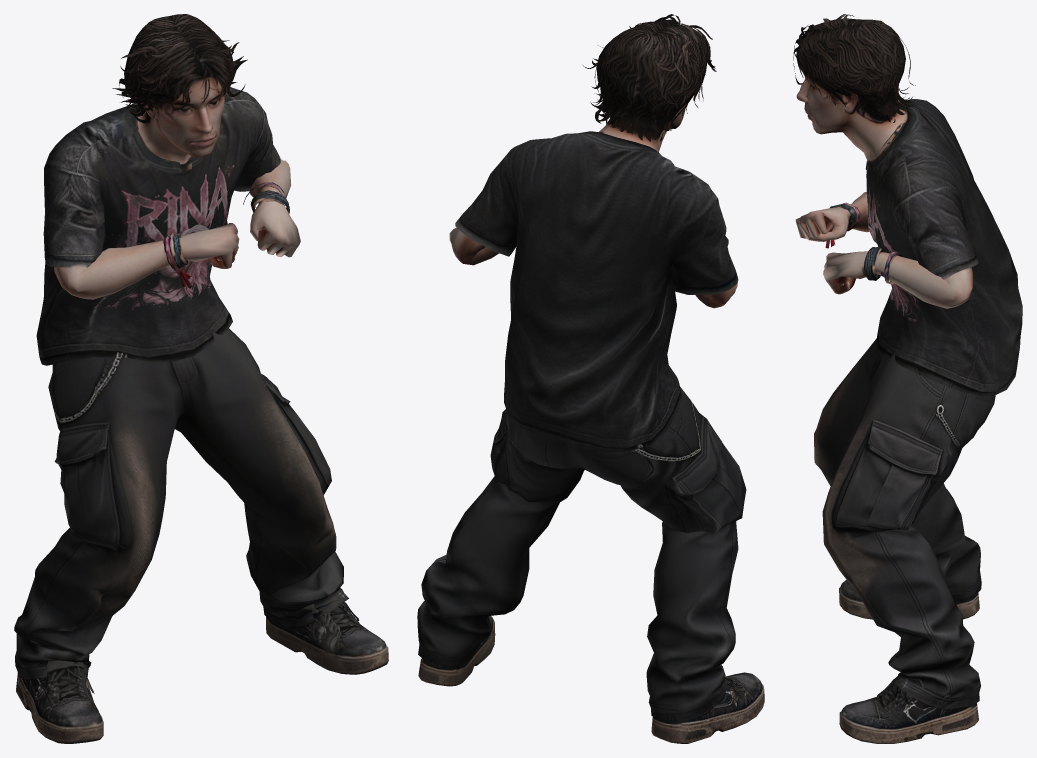
The model's file is fan_01_static_alt_1k.glb.
3 views of the same model, side by side, from view 1: azimuth 30°, elevation 25°; view 2: azimuth 150°, elevation 25°; view 3: azimuth 270°, elevation 25° (orthographic). The views are drawn at different scales.
Parts seen in each view (by area): view 1: fan_01_baked_pose; view 2: fan_01_baked_pose; view 3: fan_01_baked_pose.
Boxes of the visible parts, left/top/right/bottom form: fan_01_baked_pose: left=14, top=14, right=388, bottom=743; fan_01_baked_pose: left=417, top=14, right=764, bottom=743; fan_01_baked_pose: left=793, top=14, right=1022, bottom=743.
Bounding box in the file's own units: 0.4461 × 0.8898 × 0.293.
Materials: 1 (1 with a texture image).
